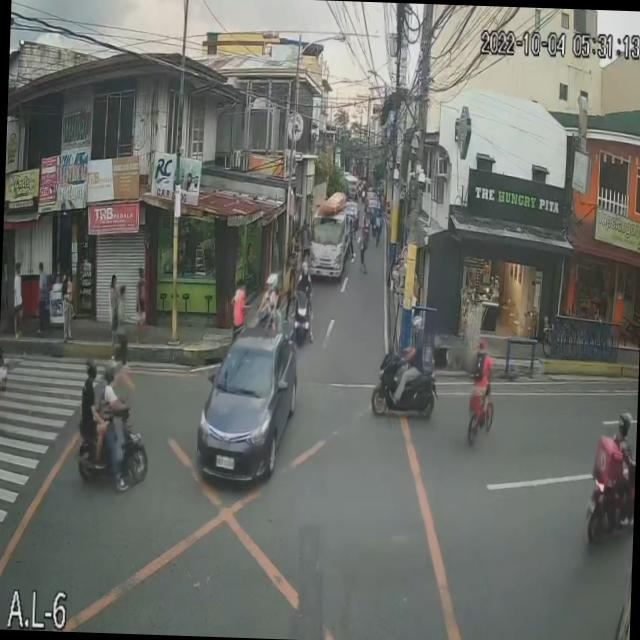full: (618, 412, 632, 438), (102, 360, 116, 383), (409, 316, 424, 334)
half: (266, 270, 280, 296), (85, 358, 98, 382)
